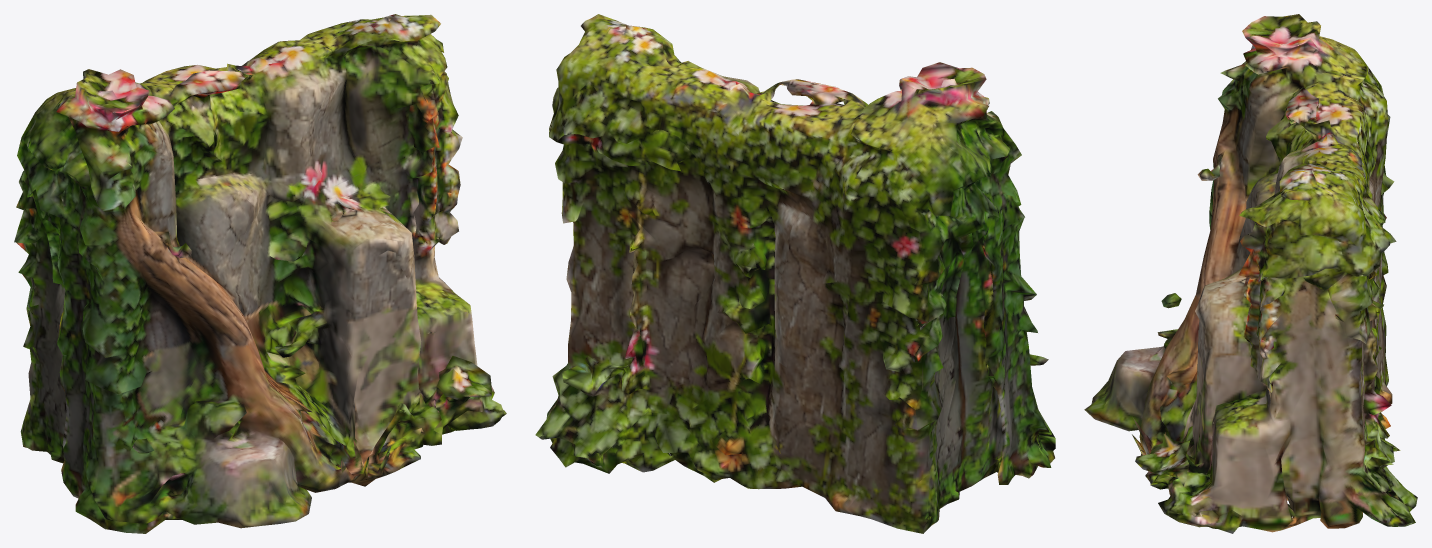
Rendered from SpringDecor_FirstRoom_VineRuins.fbx.
3 views of the same model, side by side, from view 1: azimuth 30°, elevation 25°; view 2: azimuth 150°, elevation 25°; view 3: azimuth 270°, elevation 25° (orthographic). The views are drawn at different scales.
Parts seen in each view (by area): view 1: SpringDecor_FirstRoom_VineRuins_Mesh; view 2: SpringDecor_FirstRoom_VineRuins_Mesh; view 3: SpringDecor_FirstRoom_VineRuins_Mesh.
Part boxes in pixels (x1,y1,x2,y2): SpringDecor_FirstRoom_VineRuins_Mesh: (14,14,506,533); SpringDecor_FirstRoom_VineRuins_Mesh: (535,14,1055,533); SpringDecor_FirstRoom_VineRuins_Mesh: (1084,14,1417,533).
Bounding box in the file's own units: 6 × 5.43 × 4.44.
Materials: 1 (1 with a texture image).
